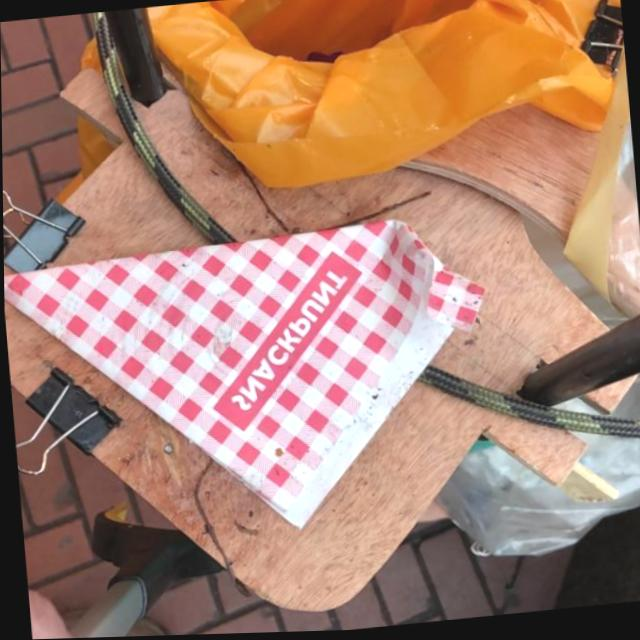Paper: (3, 207, 505, 562)
